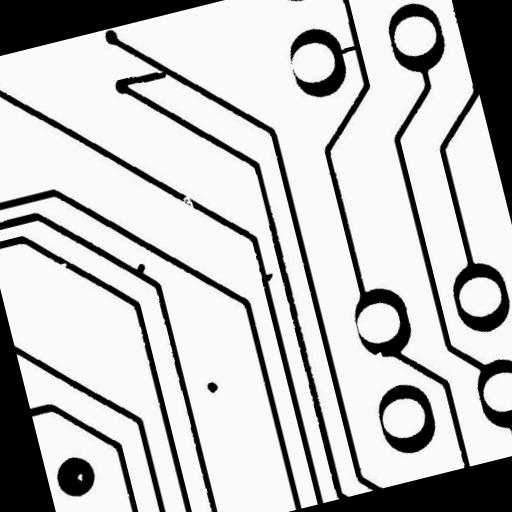copper: (198, 372, 228, 403)
mousebite: (50, 254, 77, 280), (366, 342, 391, 368)
open: (170, 183, 204, 221)
pin-hole: (68, 464, 92, 490)
short: (106, 59, 176, 98), (328, 36, 369, 64)
spur: (126, 254, 156, 285), (254, 264, 283, 290)
